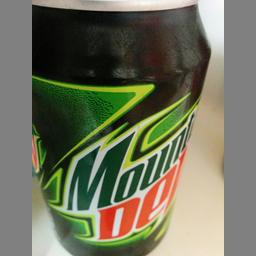soda: (30, 0, 212, 255)
